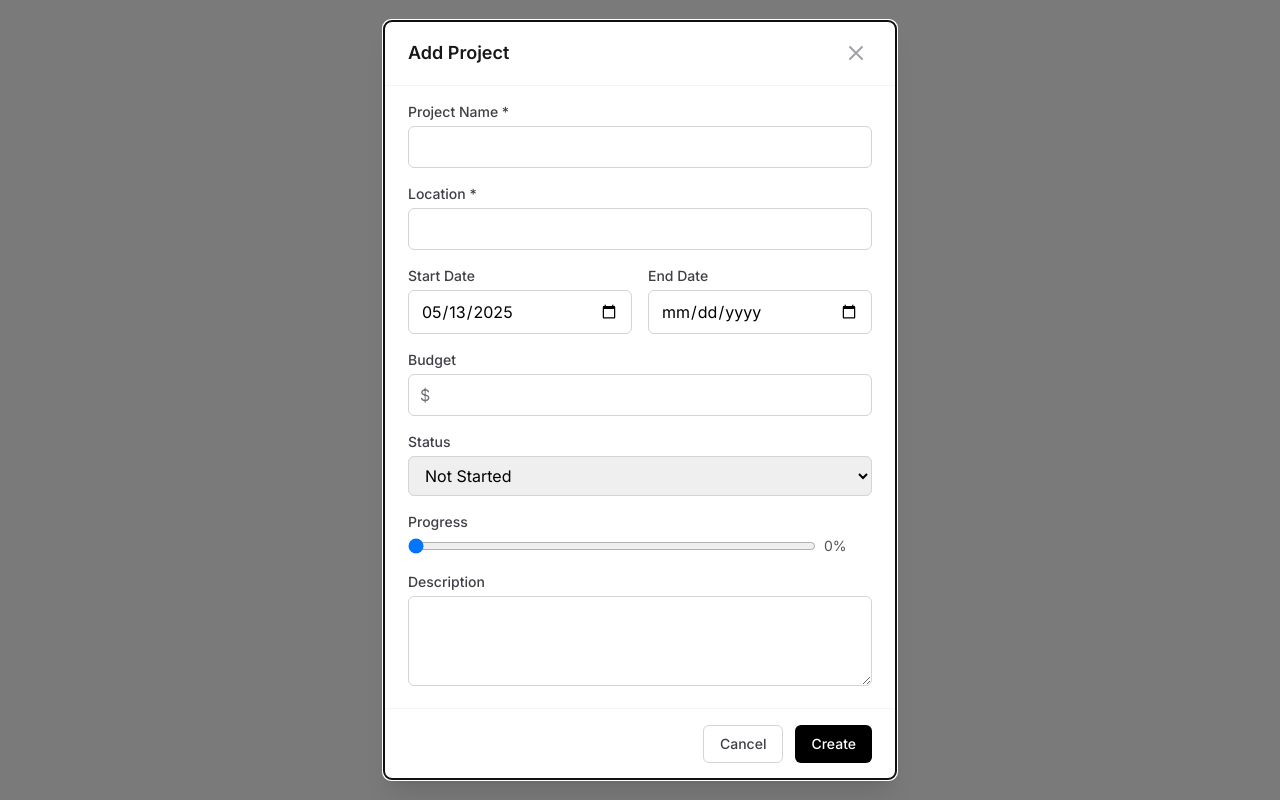
Test case: ProjectModal › updates progress with slider
Set the slider labelled "Progress" to "75" at (710, 546), box [408, 538, 816, 554]
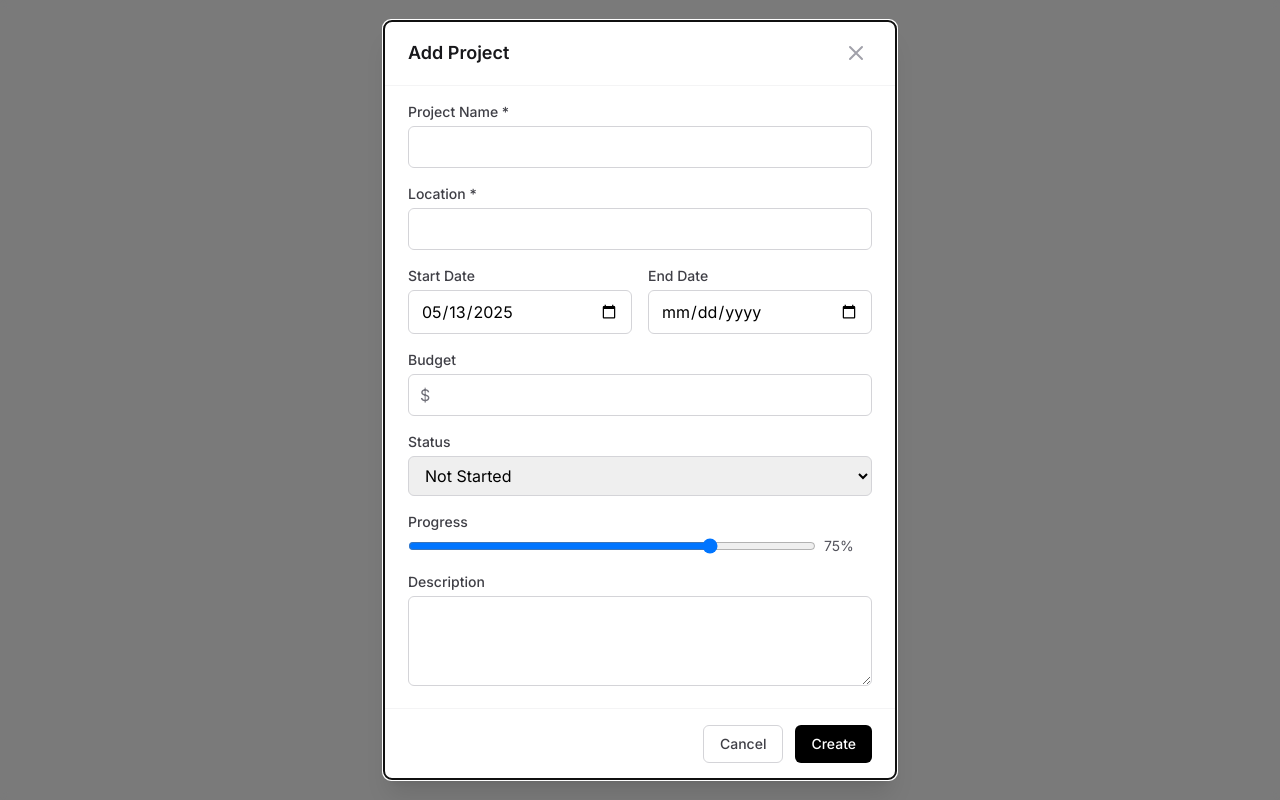
Expected: the text "75%" is shown, [824, 537, 854, 554]
